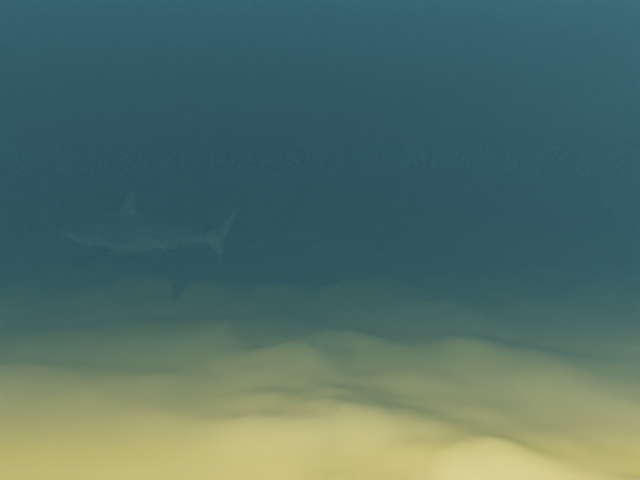Carribean Shark.001: (61, 187, 242, 266)
